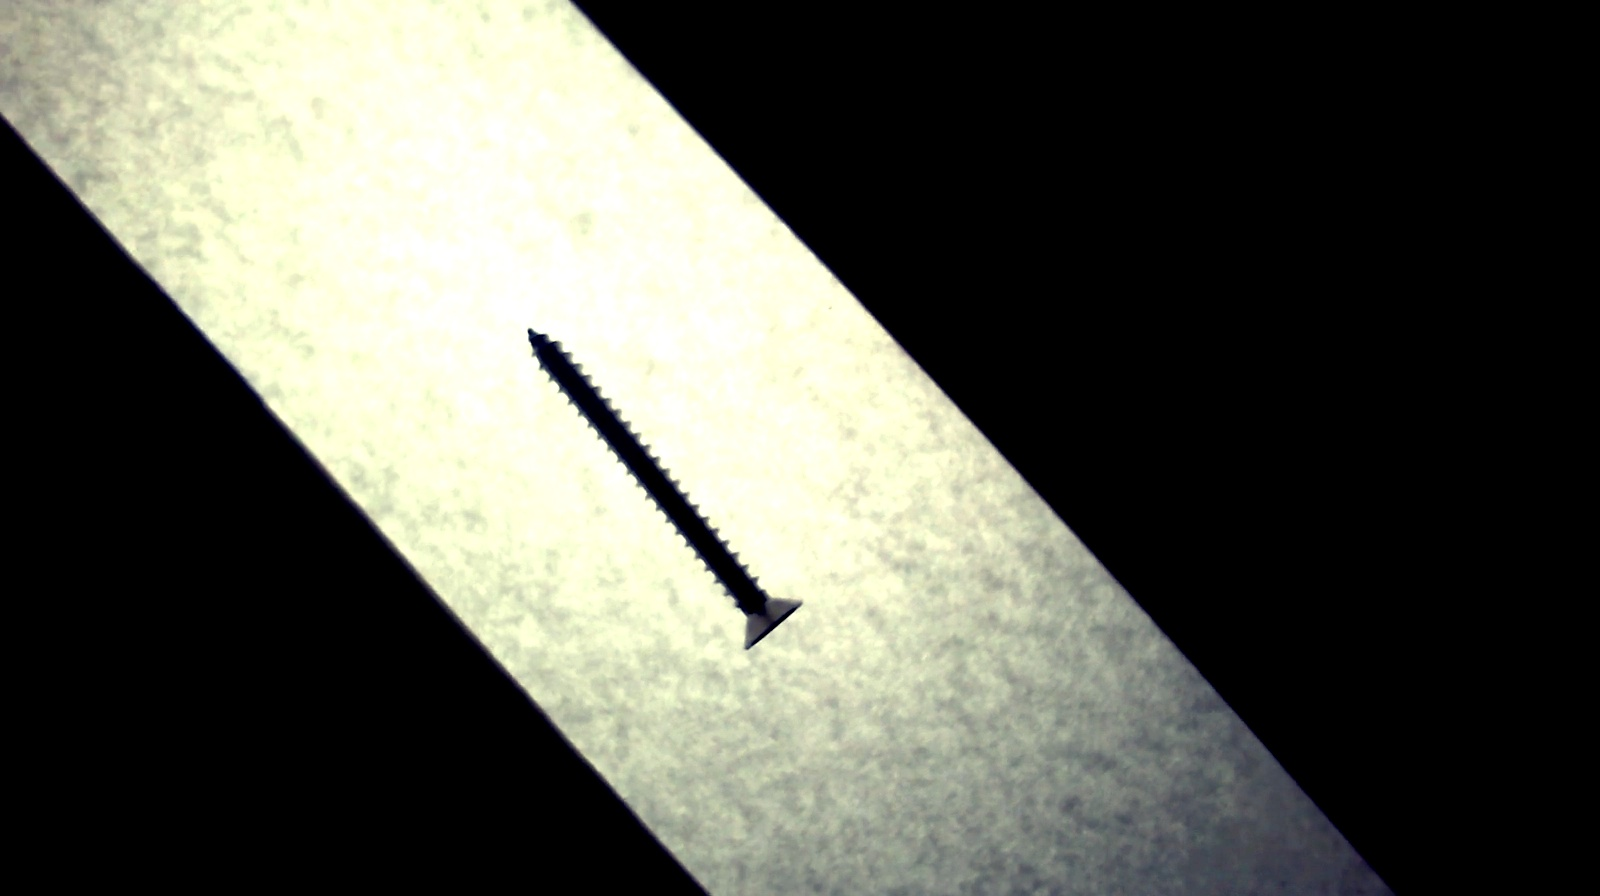S002: (487, 309, 823, 667)
